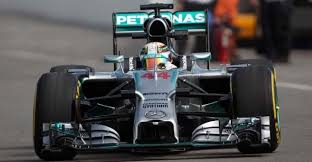FormulaOneCar: (31, 1, 286, 159)
